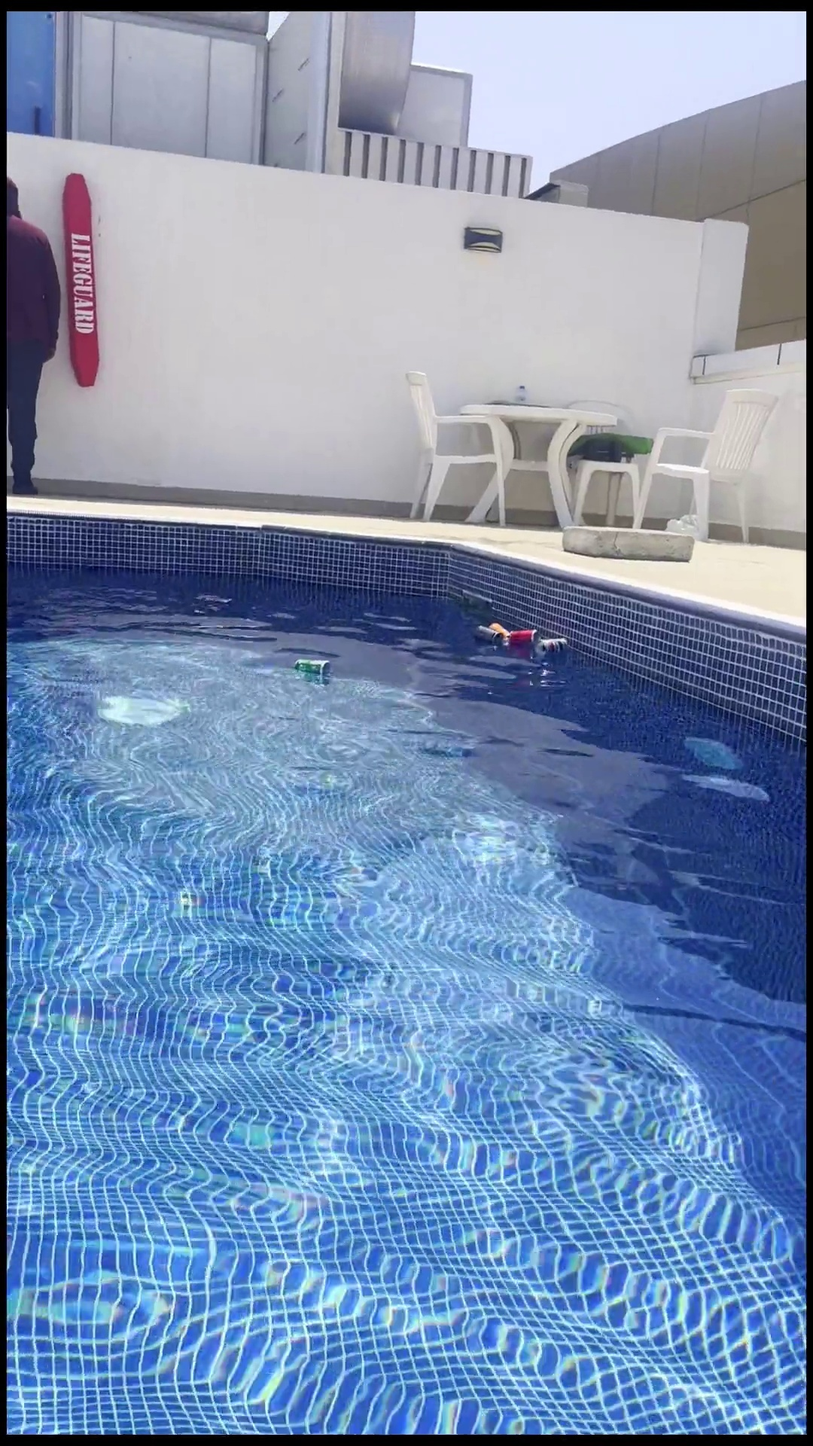debris: (291, 646, 331, 699), (501, 615, 535, 663), (530, 627, 567, 665), (470, 608, 494, 653), (487, 606, 508, 653)
